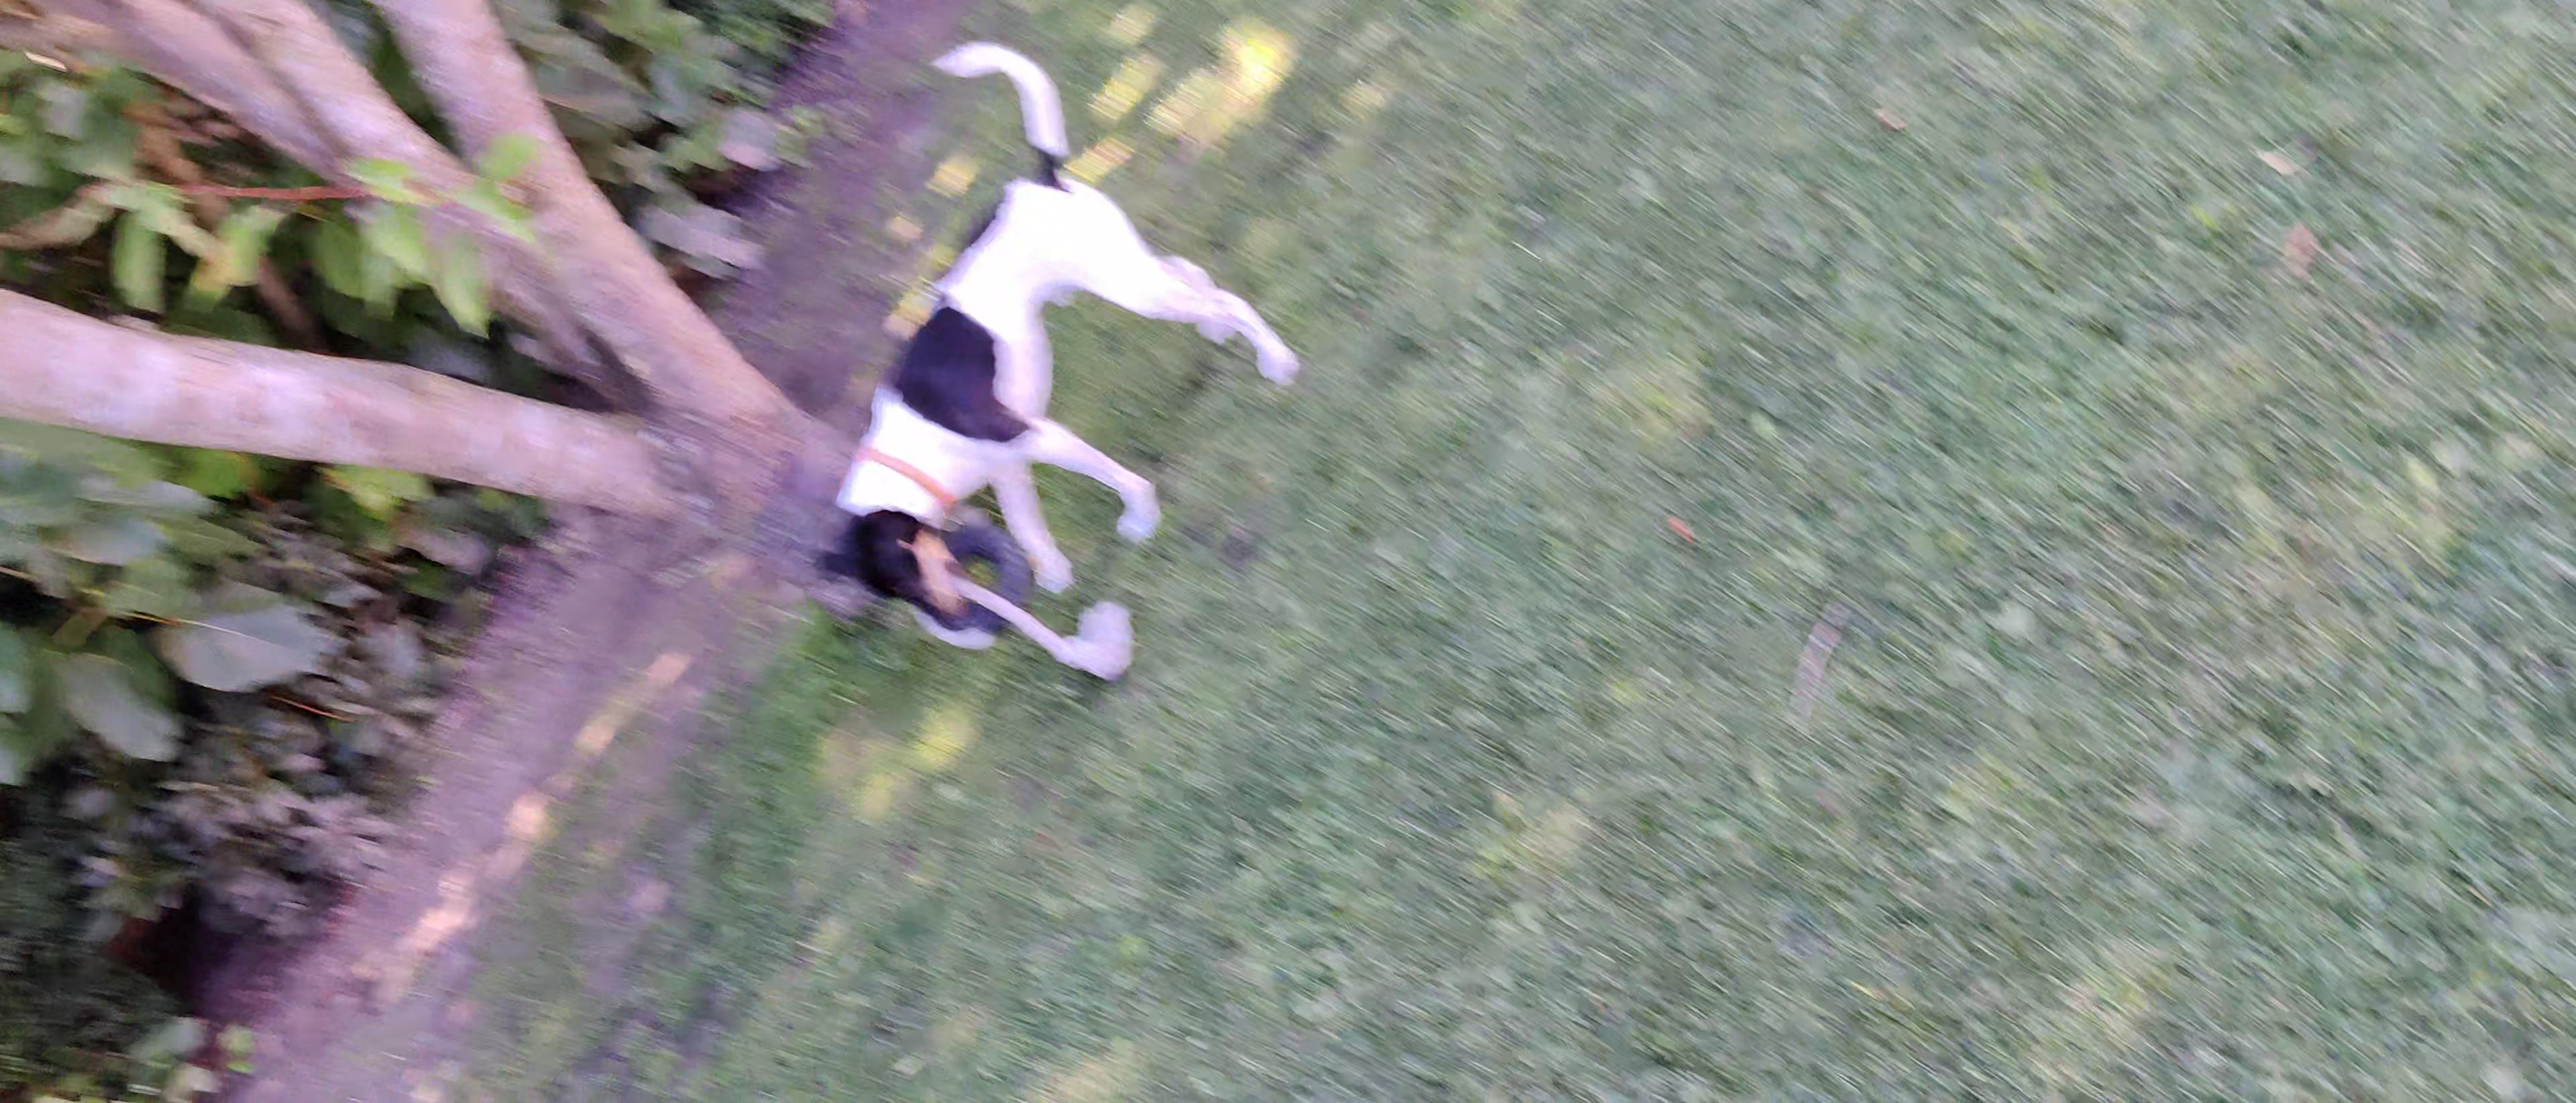Dog: (802, 33, 1303, 636)
